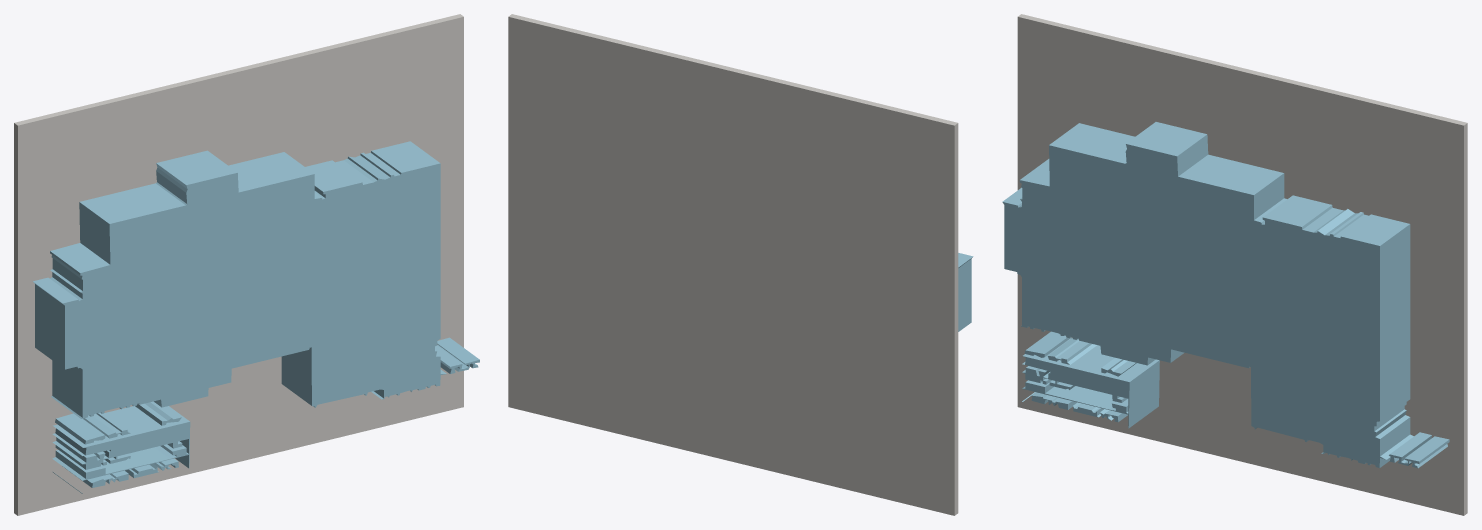
3 views of the same model, side by side, from view 1: azimuth 30°, elevation 25°; view 2: azimuth 150°, elevation 25°; view 3: azimuth 330°, elevation 25° (orthographic).
Visible parts, largest first — view 1: world; view 2: world; view 3: world.
Boxes of the visible parts, <box> form: world: <box>14,14,479,515</box>; world: <box>508,14,973,515</box>; world: <box>1002,14,1467,515</box>.
Size of the model in its own units: 10.23 by 8.55 by 1.35.
